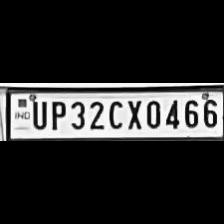0: (142, 97, 160, 128)
2: (86, 98, 104, 130)
3: (67, 98, 85, 130)
4: (162, 96, 180, 128)
6: (200, 96, 218, 128), (182, 96, 198, 128)
C: (105, 97, 123, 129)
P: (47, 98, 65, 130)
U: (30, 98, 46, 130)
X: (124, 97, 142, 130)
